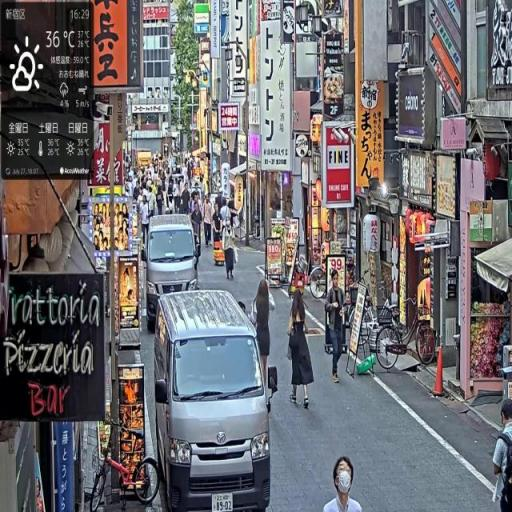person: (288, 291, 315, 410), (326, 271, 345, 384), (324, 457, 363, 512), (254, 280, 276, 377), (494, 399, 512, 512), (223, 217, 236, 280), (192, 202, 205, 246), (204, 195, 214, 248), (142, 197, 151, 247), (213, 204, 223, 244), (181, 183, 191, 215), (173, 180, 182, 214), (221, 200, 231, 227), (157, 186, 165, 216), (216, 191, 224, 212)
